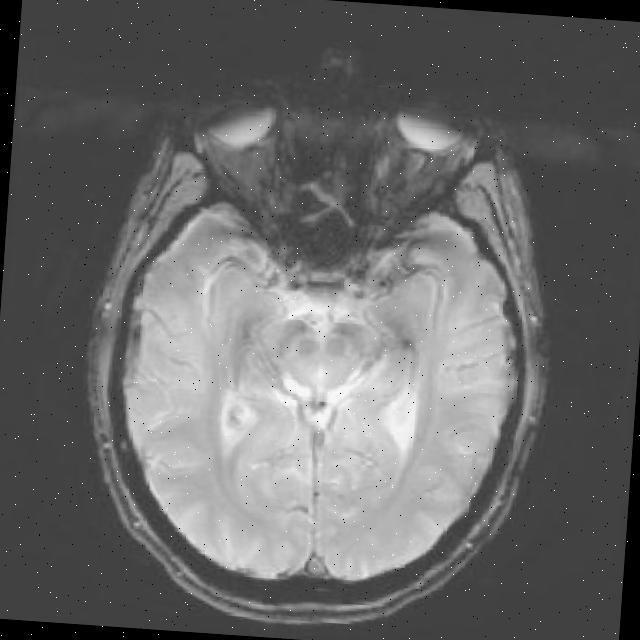MCI: (366, 374, 442, 451), (215, 384, 258, 476)
